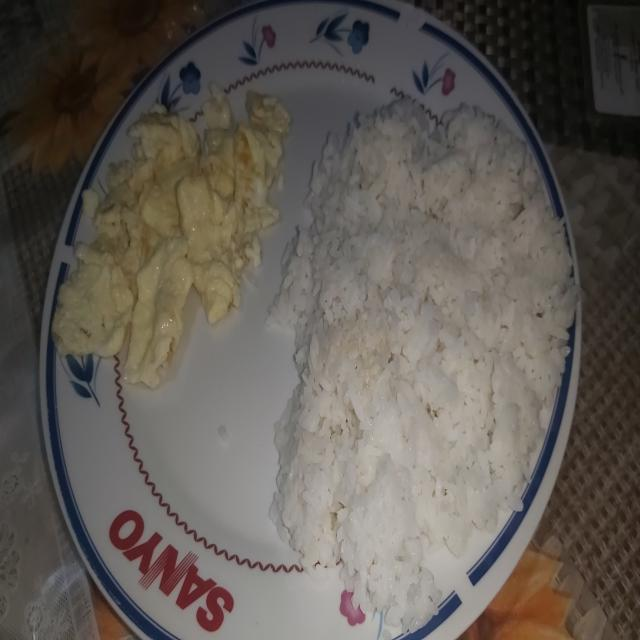Chicken -Chicken Inasal-: (296, 84, 549, 602)
